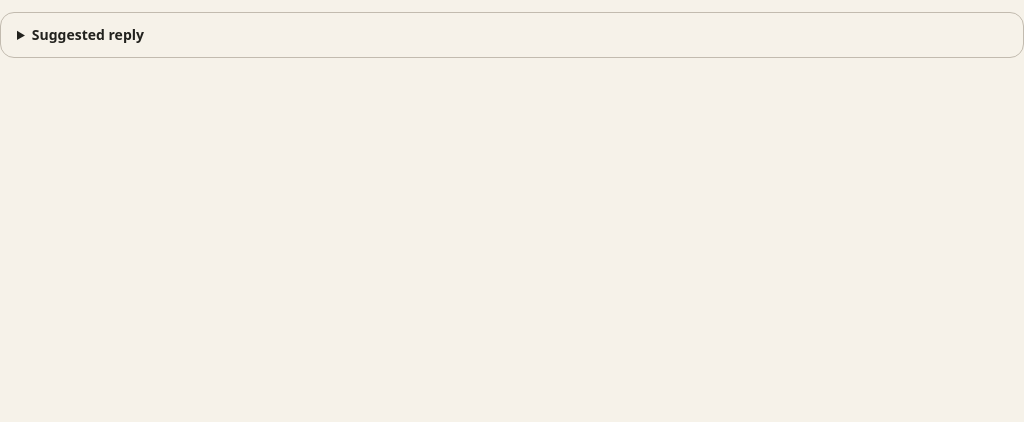
Test: copies the full reply with paragraph breaks and confirms success
Step 1. Click the heading "Suggested reply" → (88, 34), box [32,25,144,44]
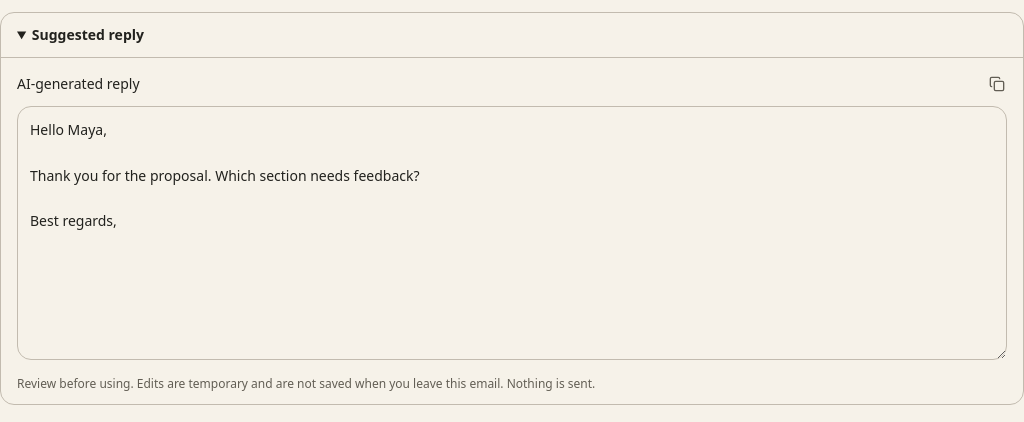
Step 2. Click the button named "Copy suggested reply" → (997, 84), box [975,62,1019,106]
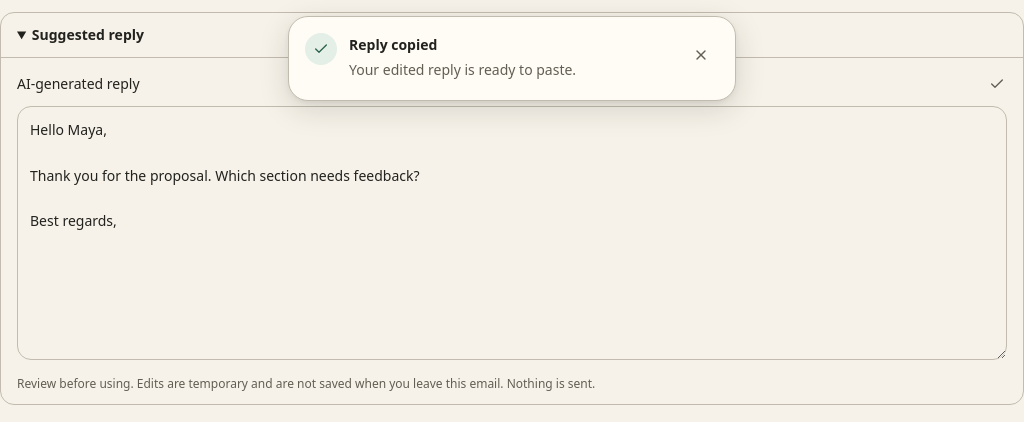
Expected: the button named "Reply copied" is shown, [975,62,1019,106]
Expected: the message shows "Your edited reply is ready to paste.", [349,60,576,79]
